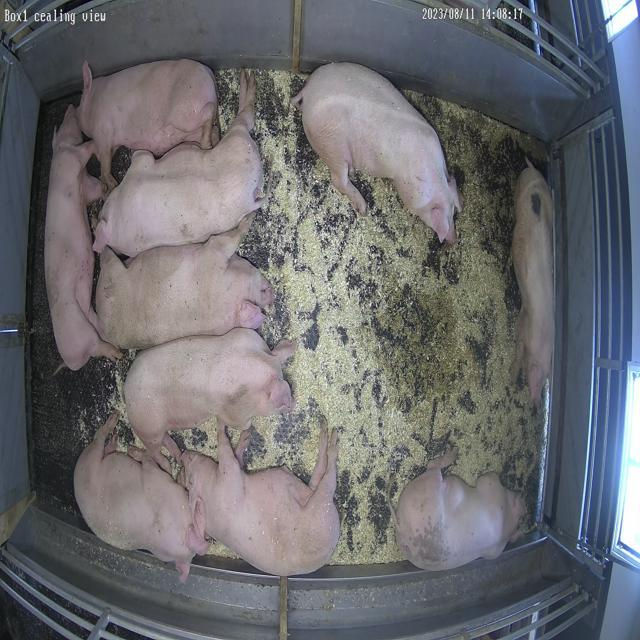Dirt: (409, 92, 547, 294), (364, 269, 469, 414)
Pig: (93, 72, 263, 256), (294, 62, 462, 242), (95, 215, 273, 350), (182, 425, 340, 576), (73, 416, 207, 582), (124, 329, 294, 458), (44, 105, 120, 370), (76, 59, 219, 190), (397, 451, 526, 572), (513, 161, 555, 406)
